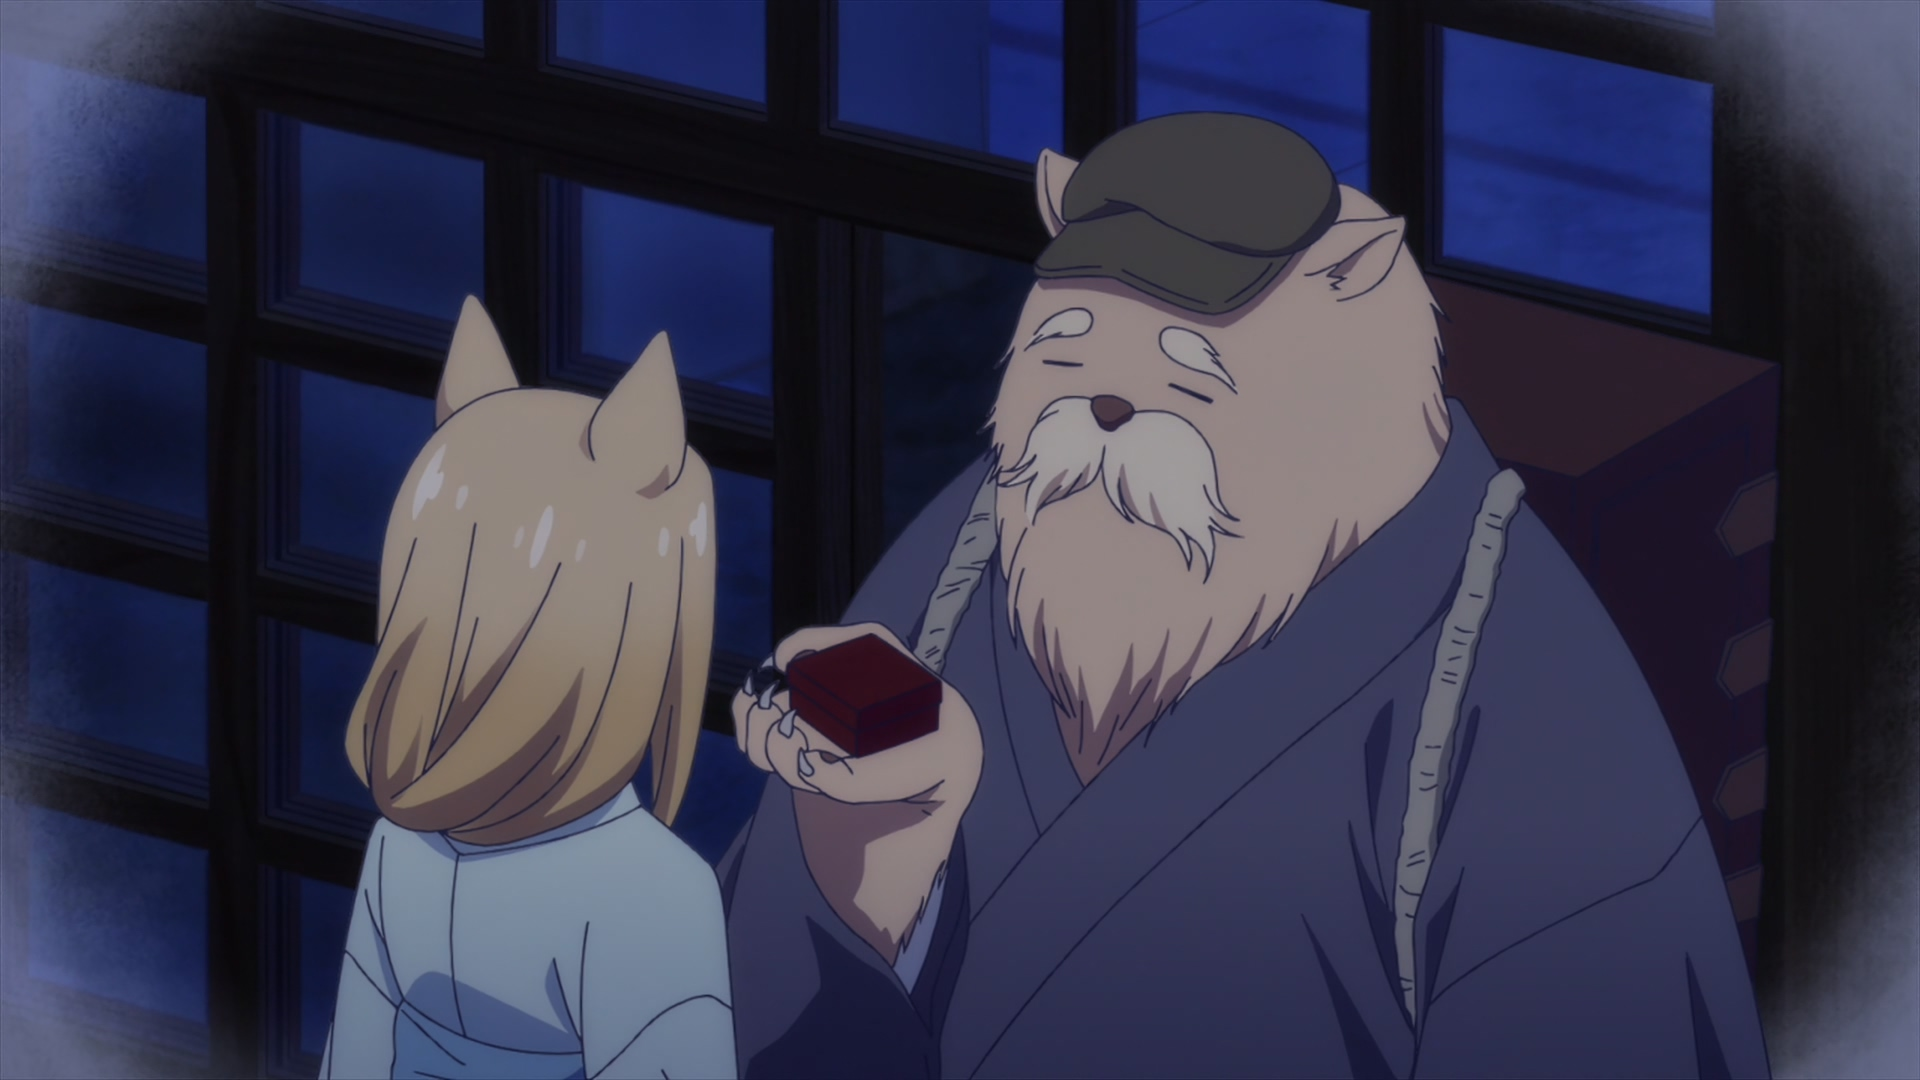桐: (323, 295, 735, 1080)
药店老板: (713, 113, 1768, 1080)
